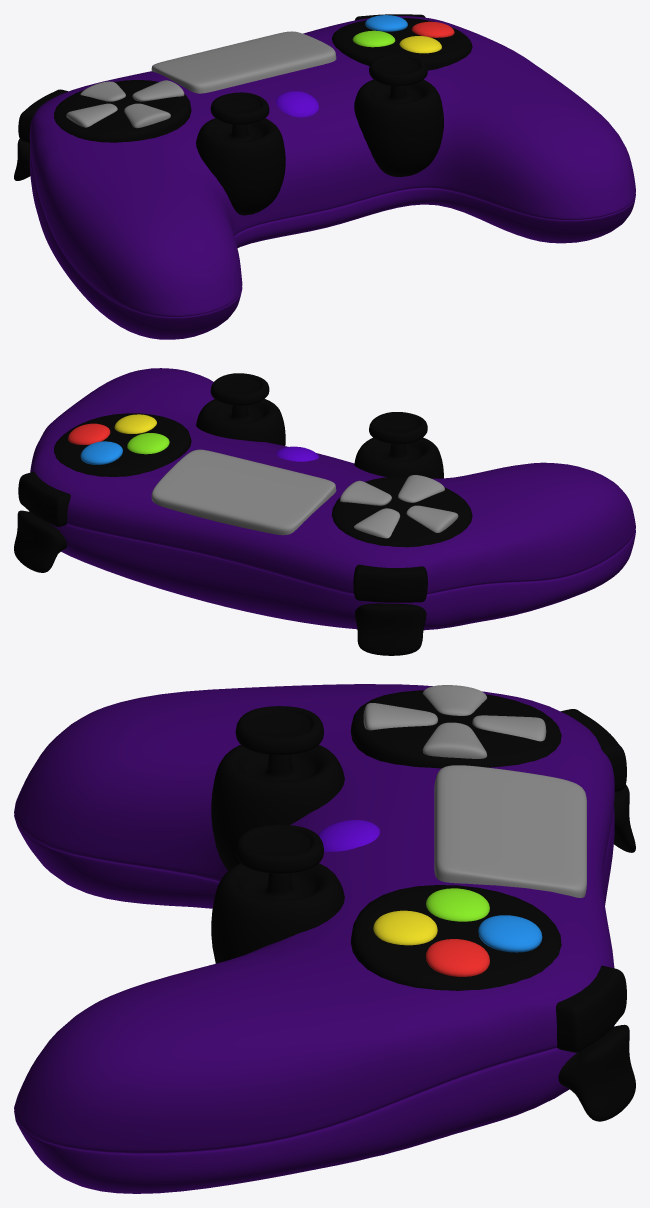
Rendered from retro_helmet.glb.
3 renders of one model, top to bottom at view 1: azimuth 30°, elevation 25°; view 2: azimuth 150°, elevation 25°; view 3: azimuth 270°, elevation 25°, orthographic. The views are drawn at different scales.
Parts seen in each view (by area): view 1: Cube; view 2: Cube; view 3: Cube.
Part boxes in pixels (bbox=[...]): Cube: bbox=[14, 14, 635, 339]; Cube: bbox=[14, 368, 635, 655]; Cube: bbox=[14, 684, 635, 1193].
Bounding box in the file's own units: 0.7878 × 0.2317 × 0.5346.
